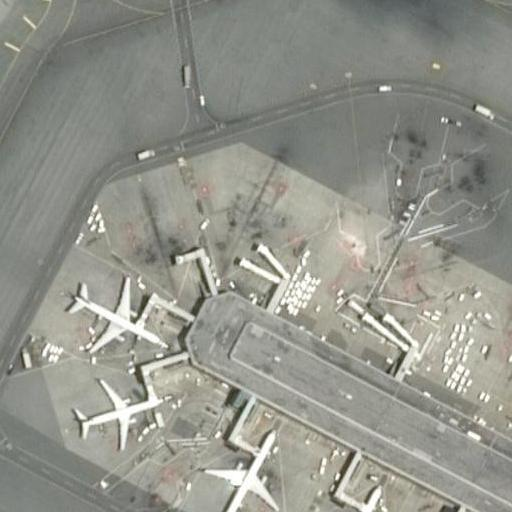Aircraft: (59, 273, 168, 355), (64, 377, 163, 450), (195, 434, 284, 512), (305, 483, 393, 512), (408, 0, 469, 1)
